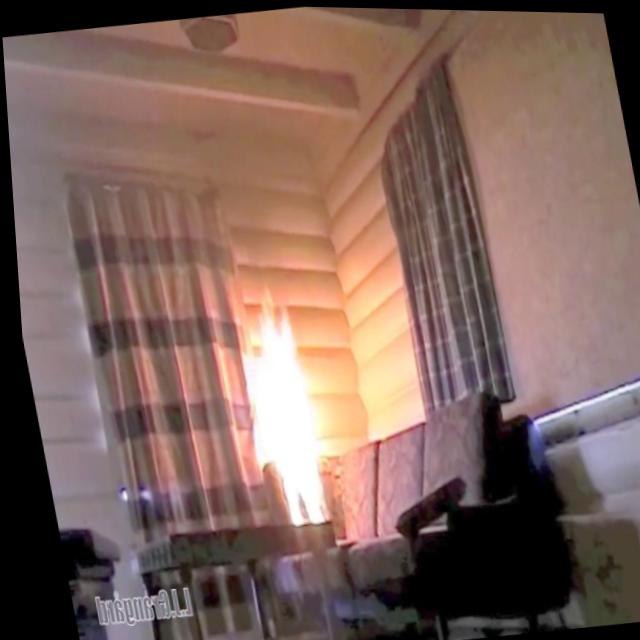fire: (213, 287, 336, 544)
